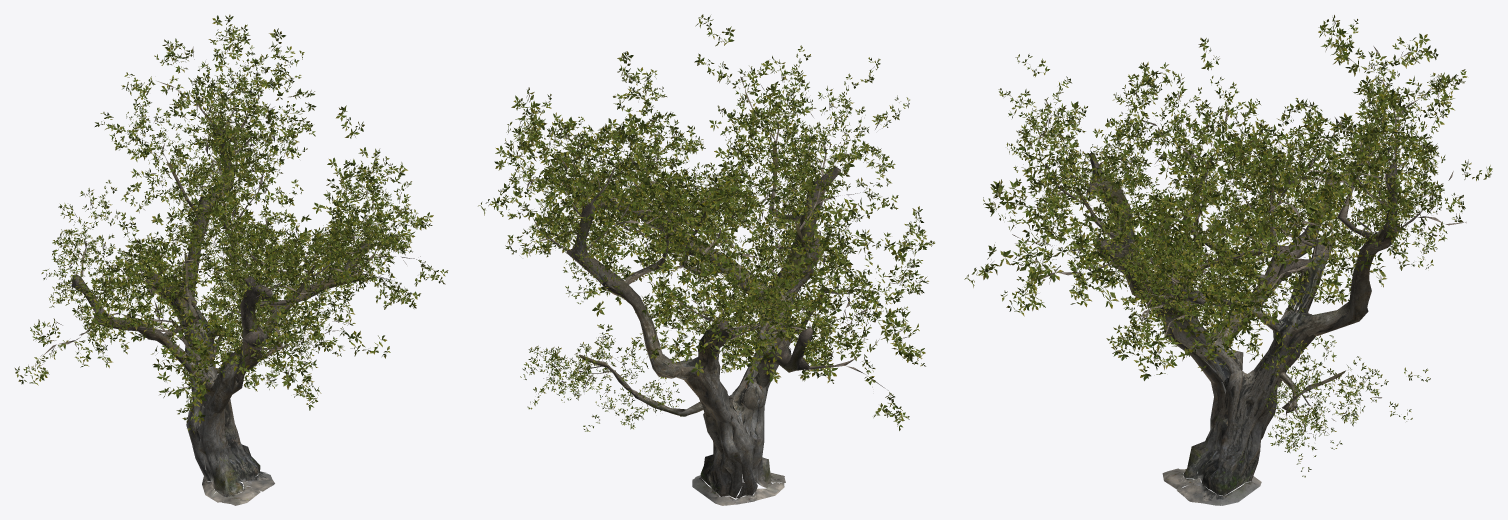
File: birch.glb
3 views of the same model, side by side, from view 1: azimuth 30°, elevation 25°; view 2: azimuth 150°, elevation 25°; view 3: azimuth 270°, elevation 25° (orthographic). The views are drawn at different scales.
Parts seen in each view (by area): view 1: island_tree_01_LOD0; view 2: island_tree_01_LOD0; view 3: island_tree_01_LOD0.
Part boxes in pixels (bbox=[...]): island_tree_01_LOD0: bbox=[15, 14, 448, 505]; island_tree_01_LOD0: bbox=[478, 14, 934, 505]; island_tree_01_LOD0: bbox=[964, 15, 1492, 505].
Bounding box in the file's own units: 4.76 × 5.03 × 4.82.
Materials: 3 (3 with a texture image).
